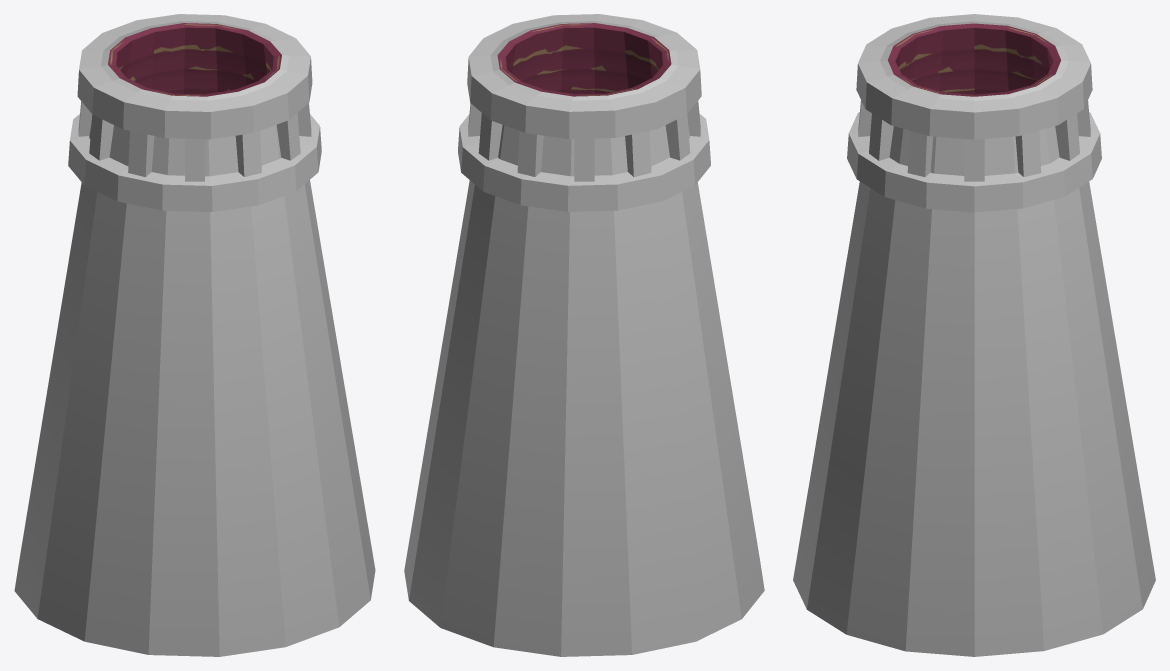
The model's file is SM_Bld_Preset_Tower_01.fbx.
The picture shows the model from 3 angles, left to right: view 1: azimuth 30°, elevation 25°; view 2: azimuth 150°, elevation 25°; view 3: azimuth 270°, elevation 25°; orthographic projection.
Visible parts, largest first — view 1: SM_Bld_Preset_Tower_01; view 2: SM_Bld_Preset_Tower_01; view 3: SM_Bld_Preset_Tower_01.
Part boxes in pixels (x1,y1,x2,y2): SM_Bld_Preset_Tower_01: [14, 14, 375, 656]; SM_Bld_Preset_Tower_01: [404, 14, 764, 656]; SM_Bld_Preset_Tower_01: [793, 14, 1155, 656].
Bounding box in the file's own units: 523 × 827 × 523.
